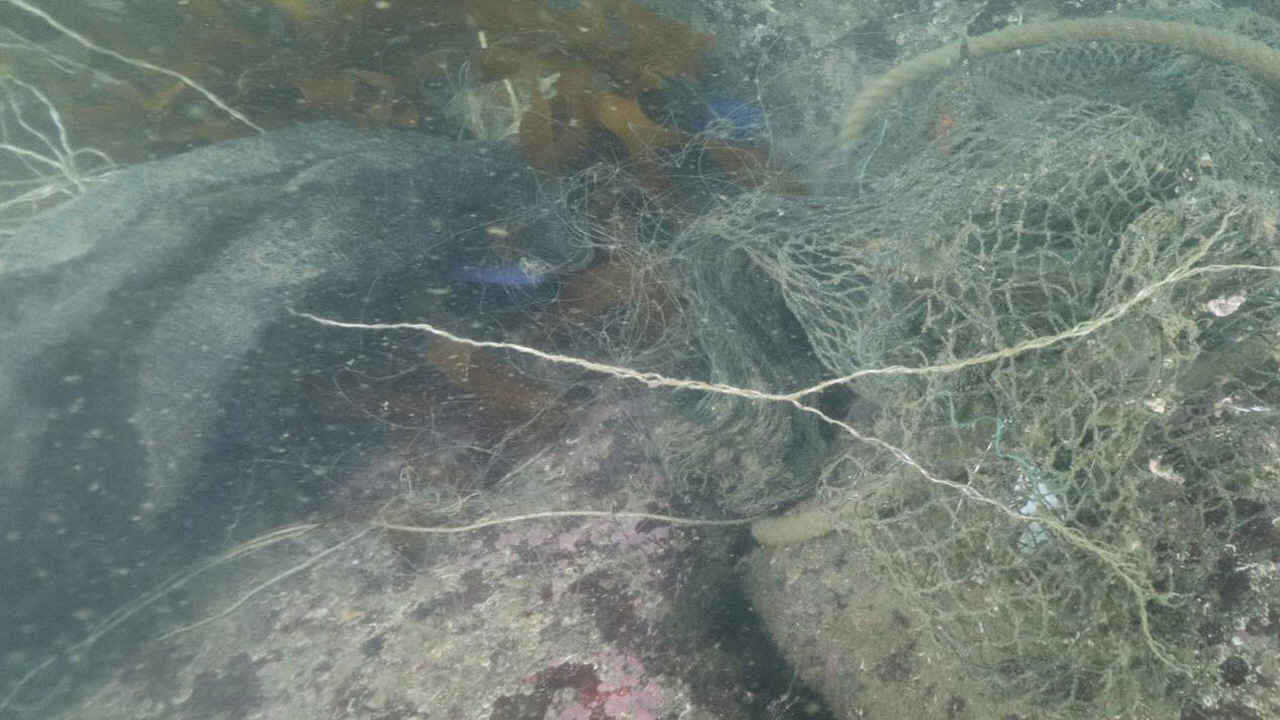fish net: (679, 37, 1280, 720)
rope: (834, 15, 1280, 149)
